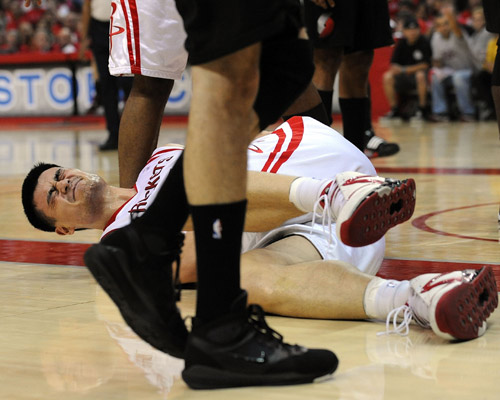fall: (19, 112, 490, 371)
